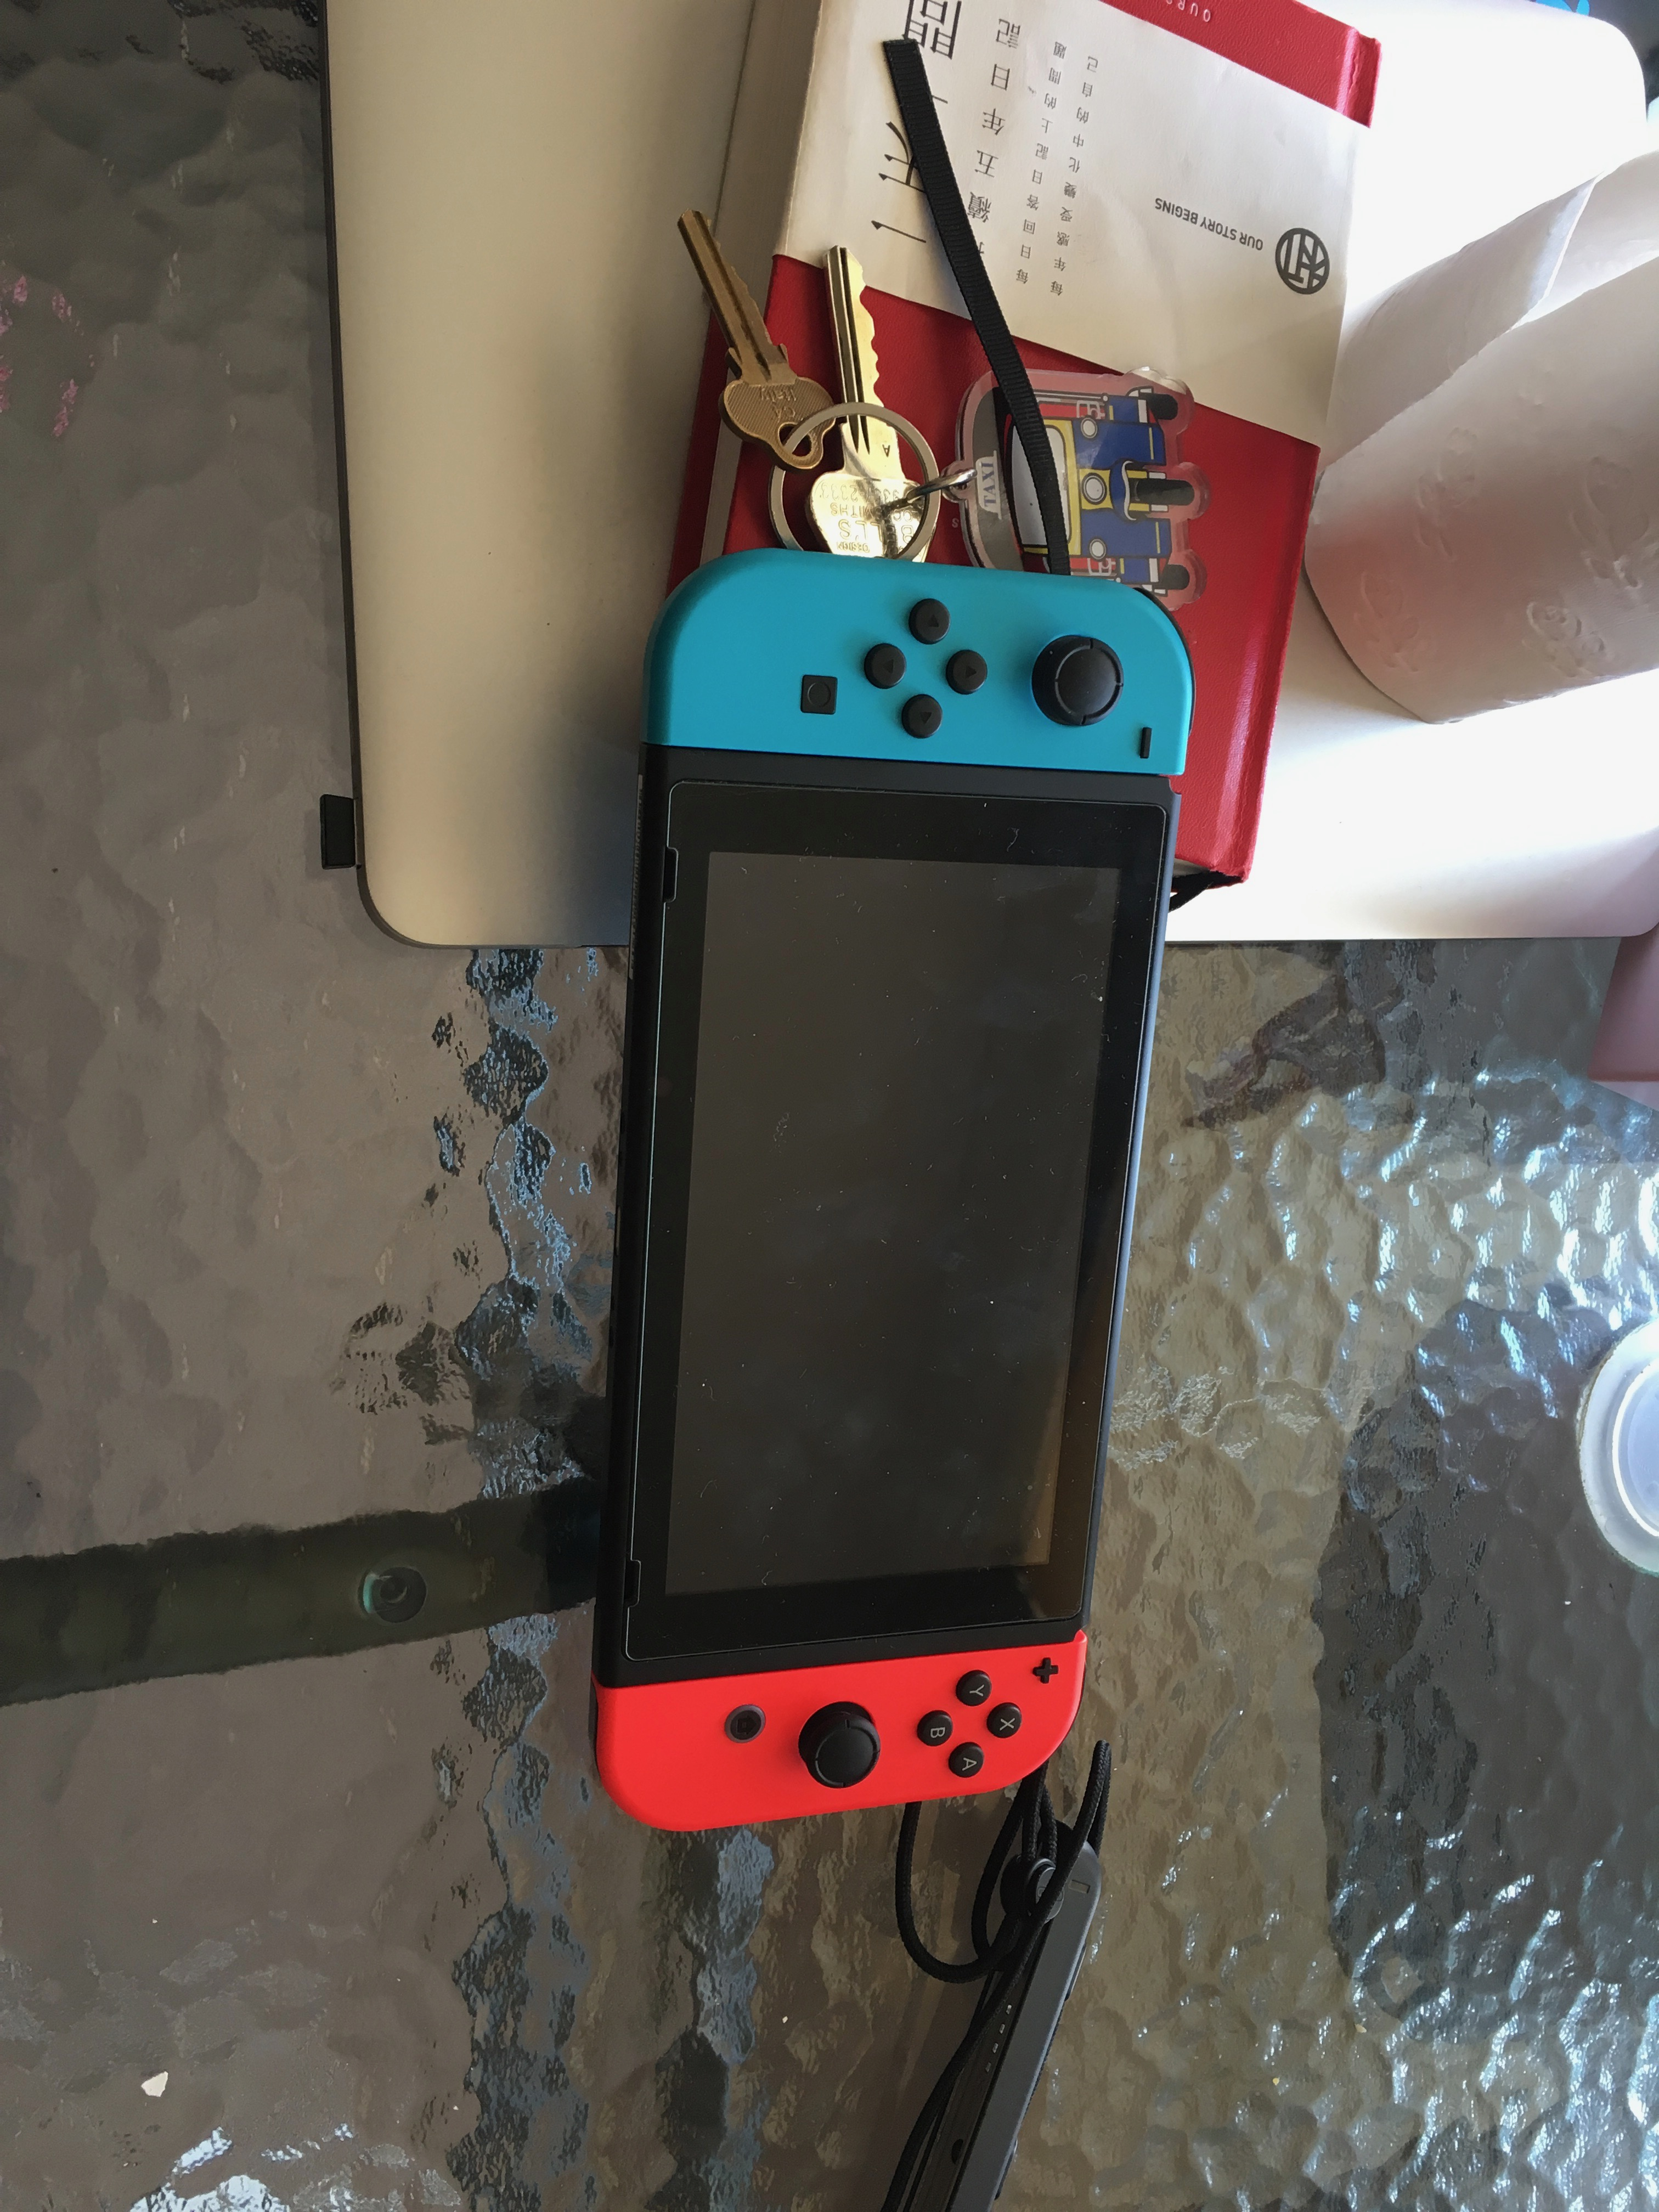NintendoSwitch: (579, 550, 1202, 1829)
